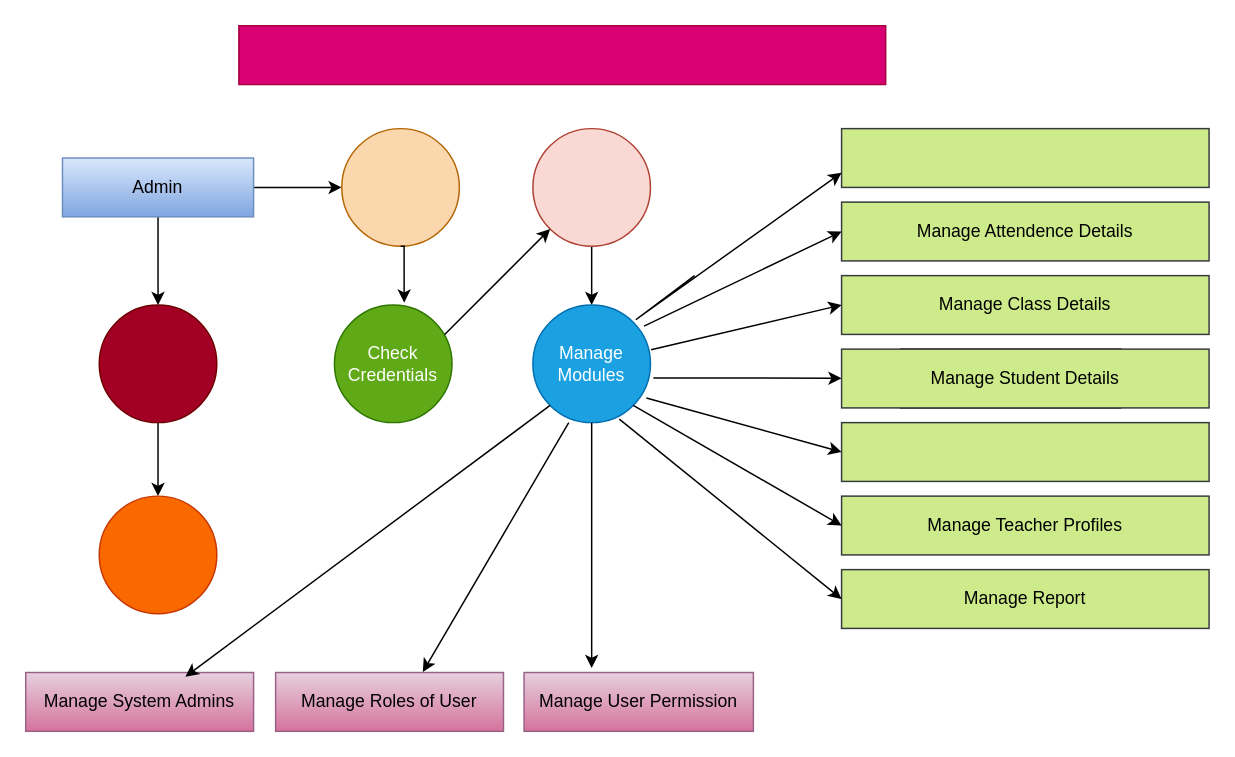
Some shapes in this 1235 by 757 pixel diagram are drawn without their labels. The box of each missing label's shape, as (x1, y1, x2, y2) in pixels:
Check Roles of Access: (531, 127, 650, 246)
Forgot Password: (98, 304, 217, 423)
Login to System: (340, 127, 459, 246)
Manage Fees Details: (840, 421, 1209, 481)
Manage Timetable Details: (840, 127, 1209, 187)
Student Information System: (237, 24, 886, 85)
